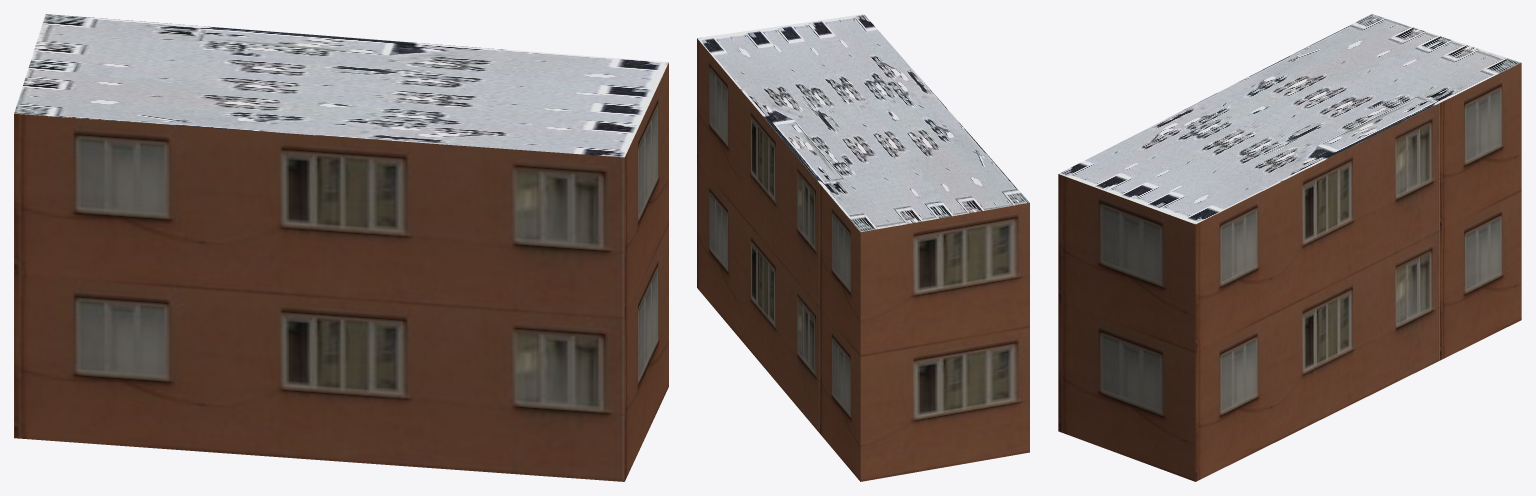
Rendered from ResTex__1063.fbx.
The picture shows the model from 3 angles, left to right: view 1: azimuth 30°, elevation 25°; view 2: azimuth 150°, elevation 25°; view 3: azimuth 270°, elevation 25°; orthographic projection. The views are drawn at different scales.
Parts seen in each view (by area): view 1: CityEngineMaterial_20_m, CityEngineMaterial_4_m; view 2: CityEngineMaterial_20_m, CityEngineMaterial_4_m; view 3: CityEngineMaterial_20_m, CityEngineMaterial_4_m.
Boxes of the visible parts, x1,y1,x2,y2 form: CityEngineMaterial_20_m: [14, 63, 668, 481]; CityEngineMaterial_4_m: [14, 14, 668, 157]; CityEngineMaterial_20_m: [697, 38, 1029, 481]; CityEngineMaterial_4_m: [697, 14, 1029, 232]; CityEngineMaterial_20_m: [1058, 63, 1521, 481]; CityEngineMaterial_4_m: [1059, 14, 1520, 224].
Size of the model in its own units: 10.52 by 6 by 9.78.
2 materials, 2 textured.
